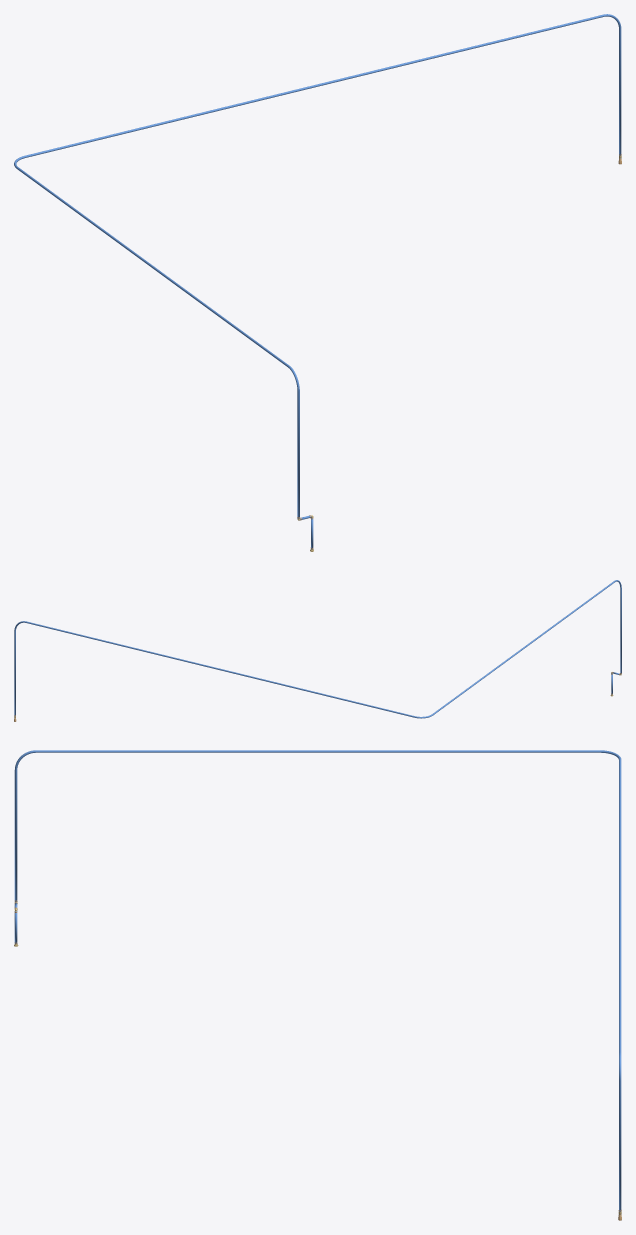
Rendered from pipes_supply__water-well_and_softener-yes_and_flowsmart-yes_and_plumbing-pex.glb.
3 renders of one model, top to bottom at view 1: azimuth 30°, elevation 25°; view 2: azimuth 150°, elevation 25°; view 3: azimuth 270°, elevation 25°, orthographic. The views are drawn at different scales.
Visible parts, largest first — view 1: pipe_supply_well_to_softener_fs__pex; view 2: pipe_supply_well_to_softener_fs__pex; view 3: pipe_supply_well_to_softener_fs__pex.
Part boxes in pixels (x1,y1,x2,y2): pipe_supply_well_to_softener_fs__pex: [14, 14, 621, 549]; pipe_supply_well_to_softener_fs__pex: [14, 580, 621, 718]; pipe_supply_well_to_softener_fs__pex: [14, 750, 621, 1211].
Bounding box in the file's own units: 6.45 × 1.82 × 5.31.
